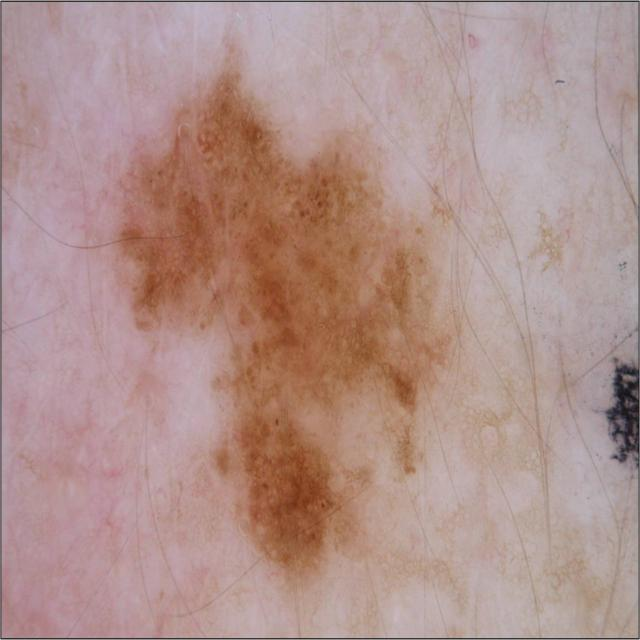Benign: (117, 67, 451, 584)
